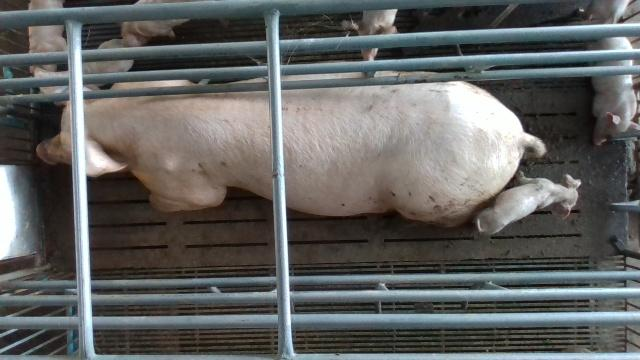piglet: (472, 172, 582, 236), (582, 36, 640, 145), (26, 0, 69, 74), (344, 7, 403, 59)
sow-sit: (32, 67, 546, 225)
